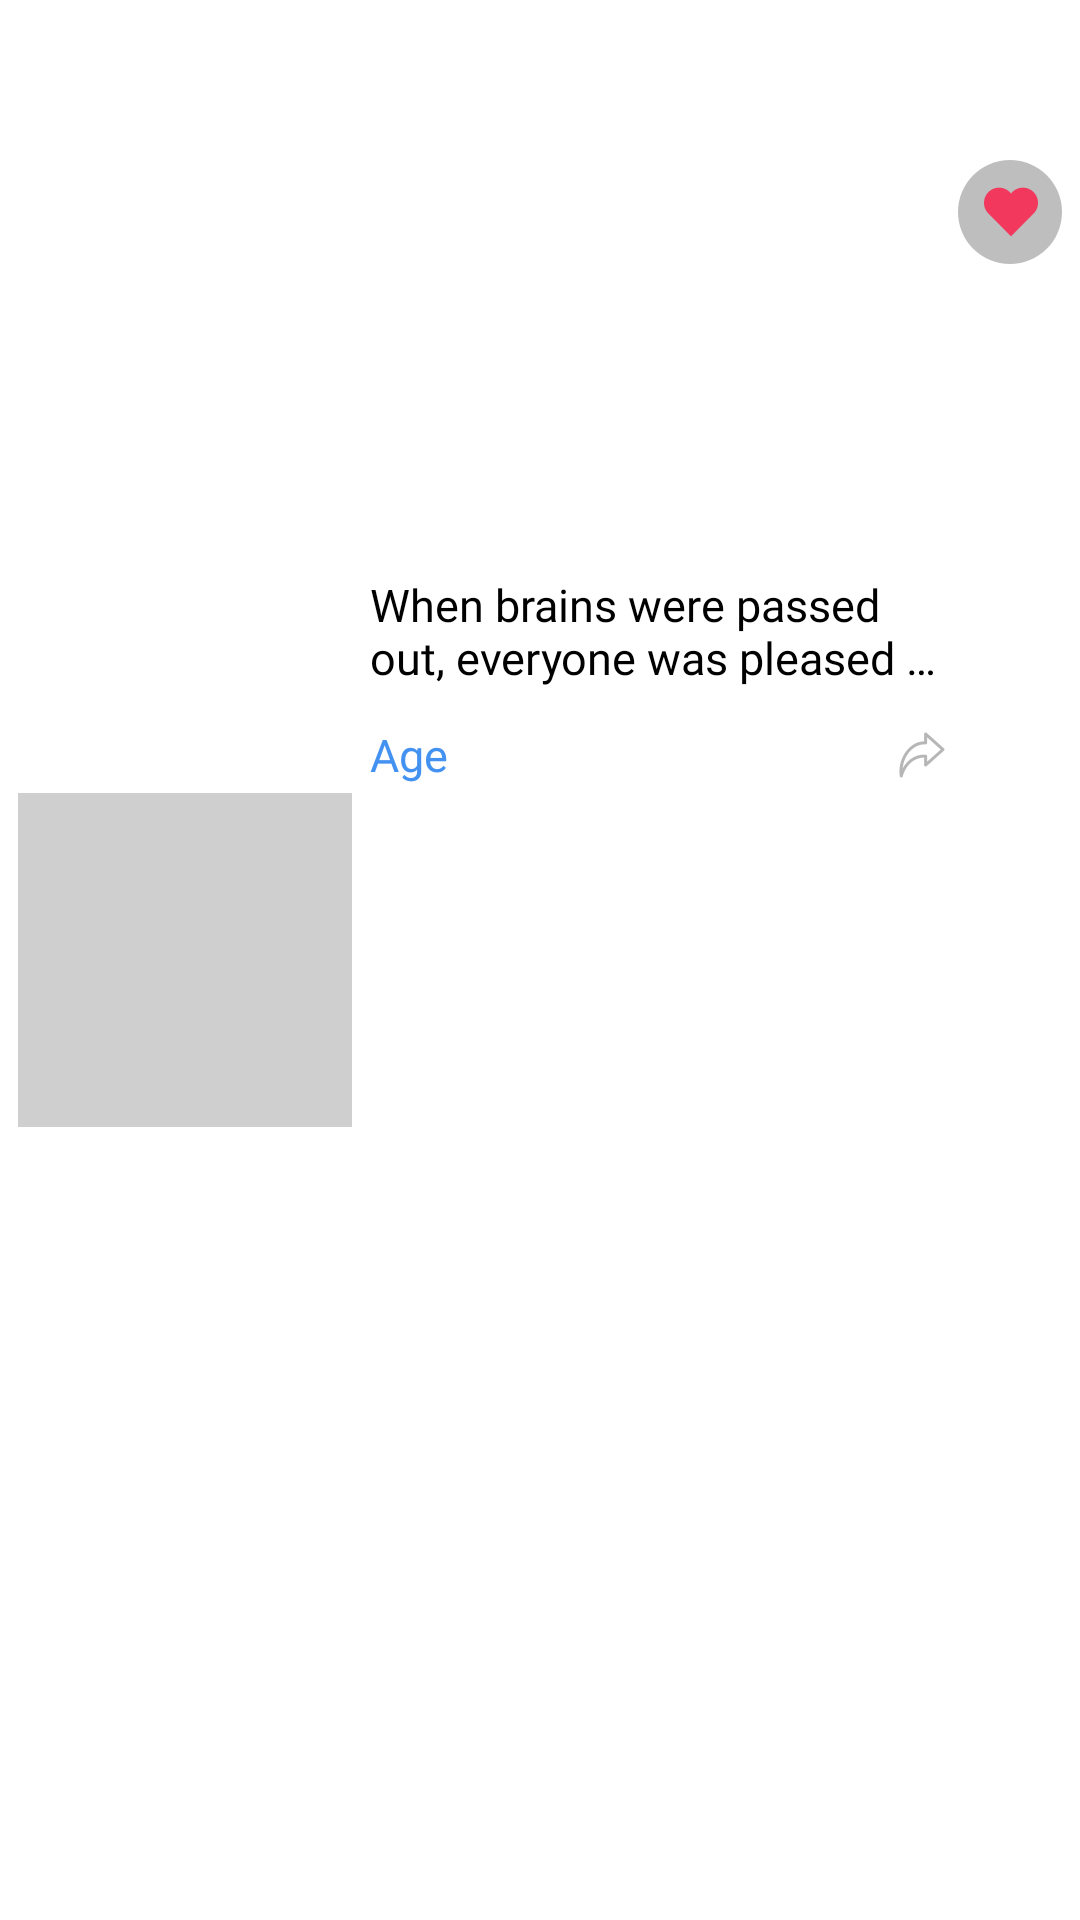

Where to tap for icons on this 1080×1920 app screen, as [x,y]:
recent favortie box: [1011,211]
share: [922,755]
